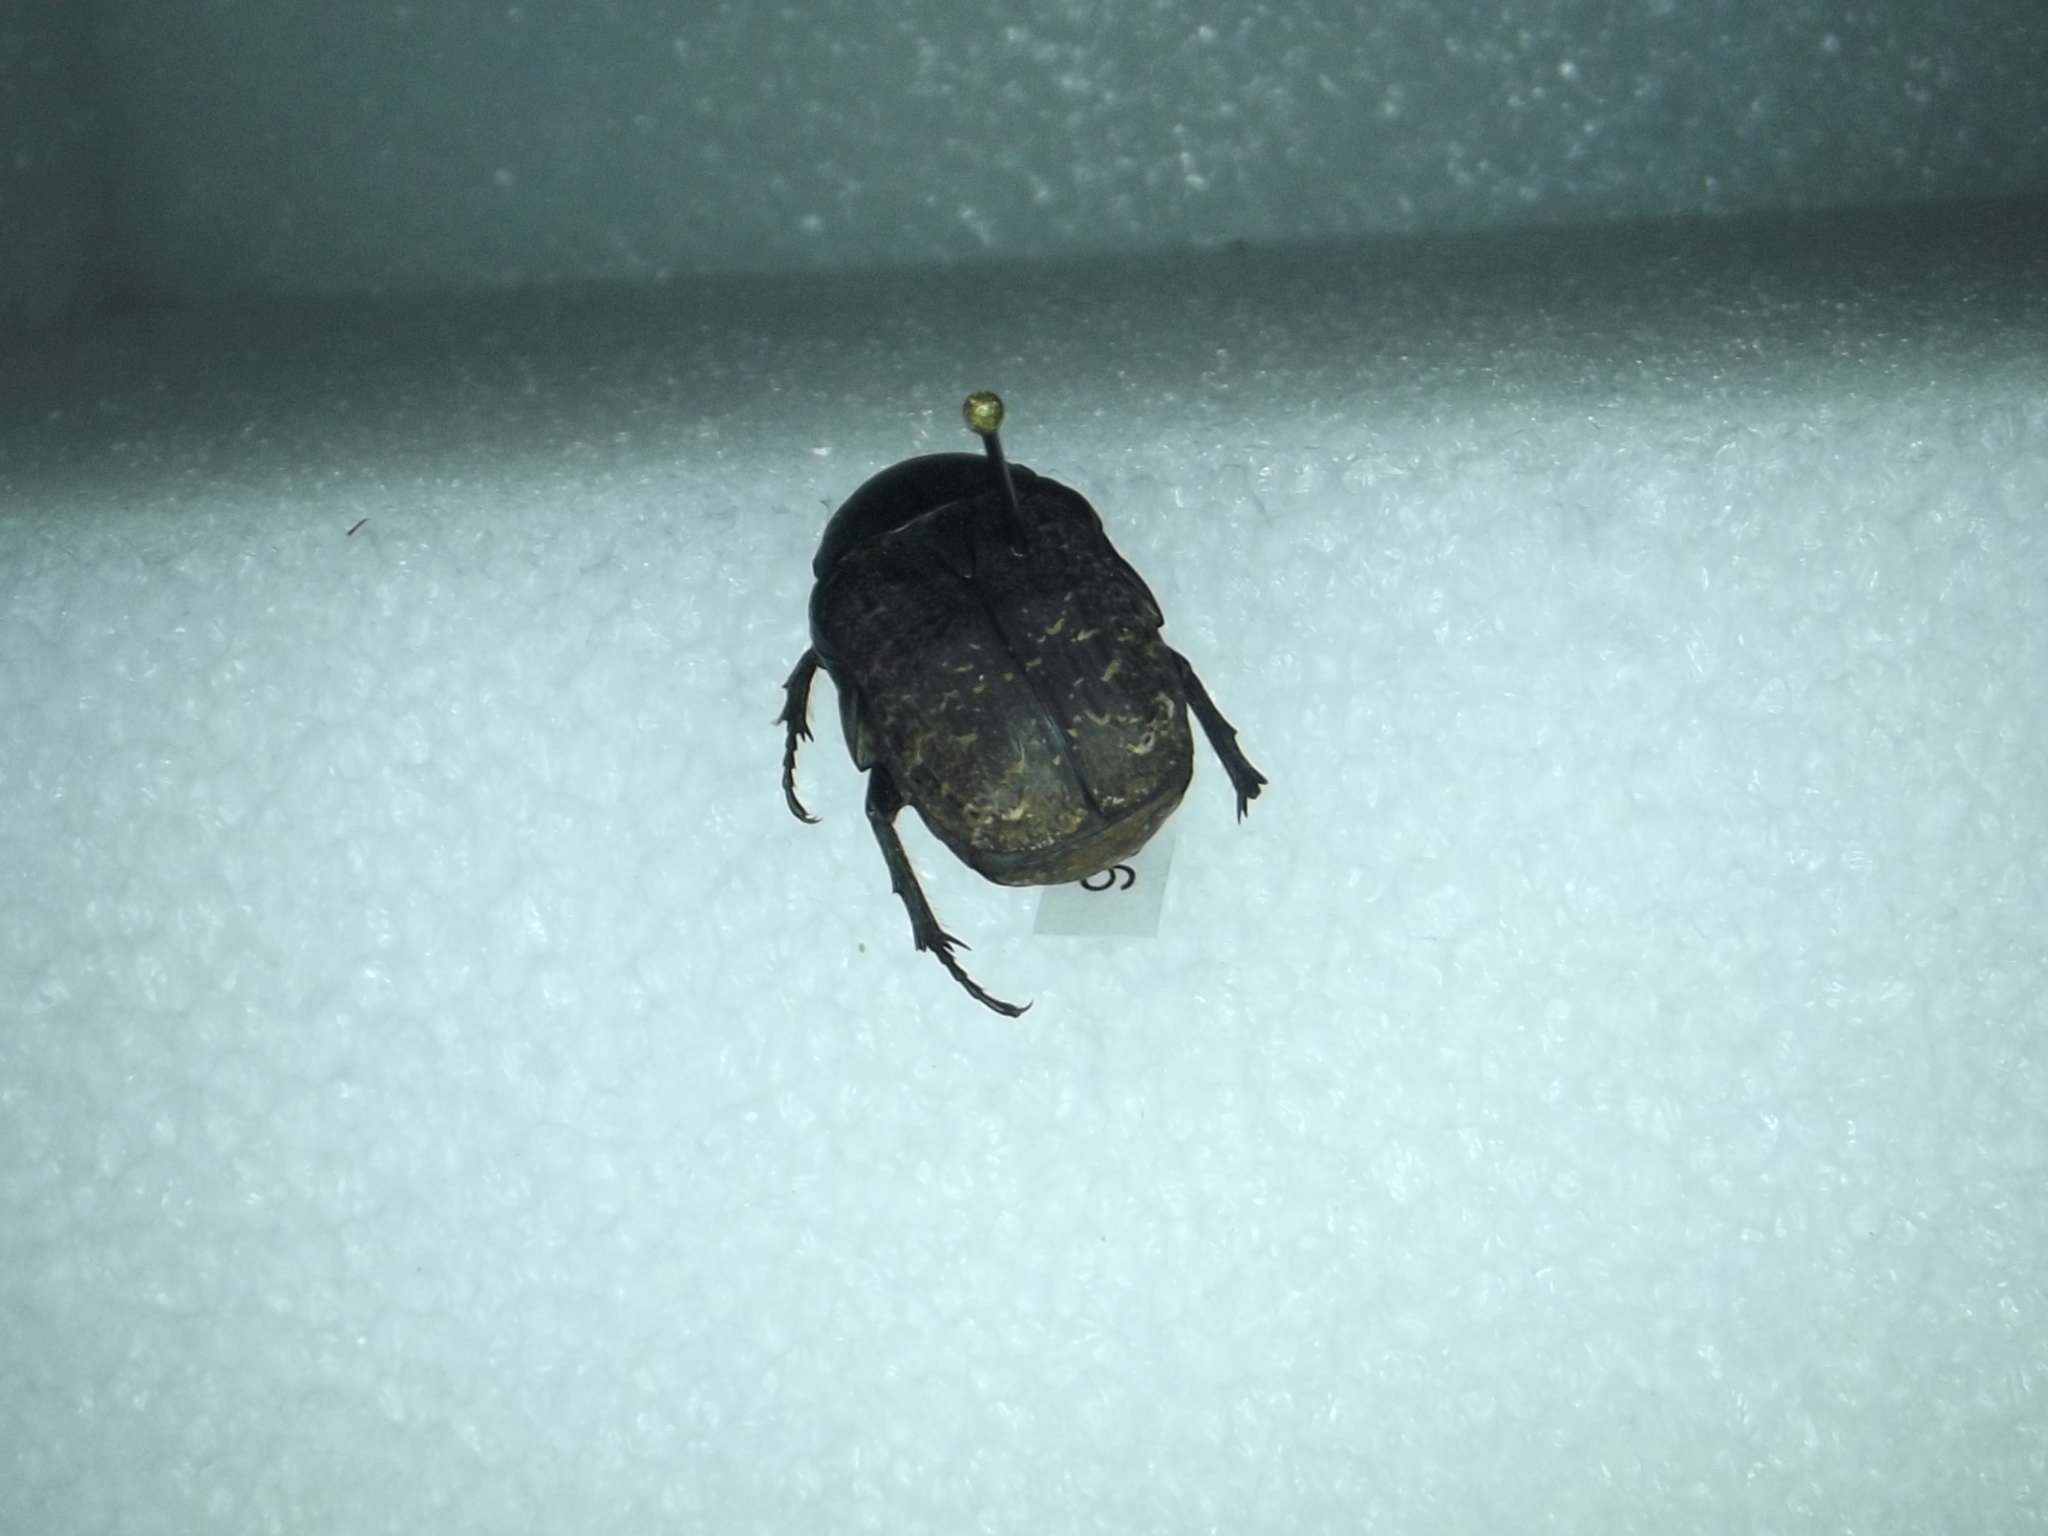Protaetia_oblonga: (769, 421, 1292, 1033)
